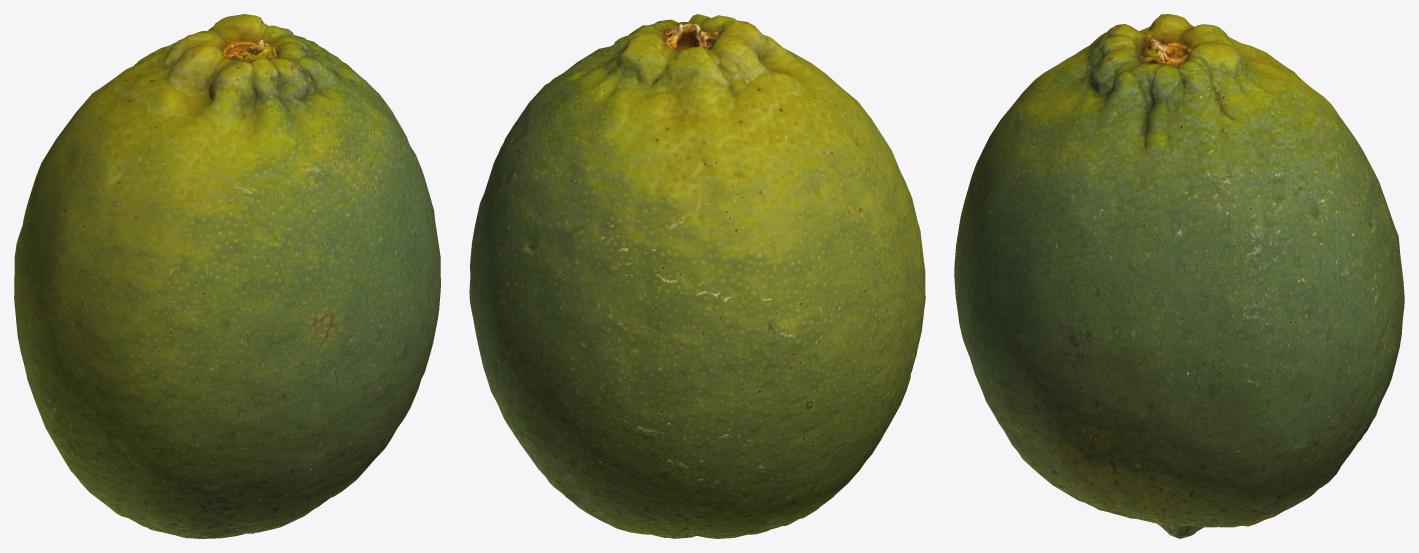
The model's file is food_lime_01_4k.gltf.
3 renders of one model, left to right at view 1: azimuth 30°, elevation 25°; view 2: azimuth 150°, elevation 25°; view 3: azimuth 270°, elevation 25°, orthographic.
Visible parts, largest first — view 1: food_lime_01; view 2: food_lime_01; view 3: food_lime_01.
Part boxes in pixels (left/top/right/bottom): food_lime_01: left=14, top=14, right=440, bottom=538; food_lime_01: left=469, top=14, right=925, bottom=538; food_lime_01: left=954, top=14, right=1404, bottom=538.
Size of the model in its own units: 0.0601 by 0.0754 by 0.0613.
1 material, 1 textured.
